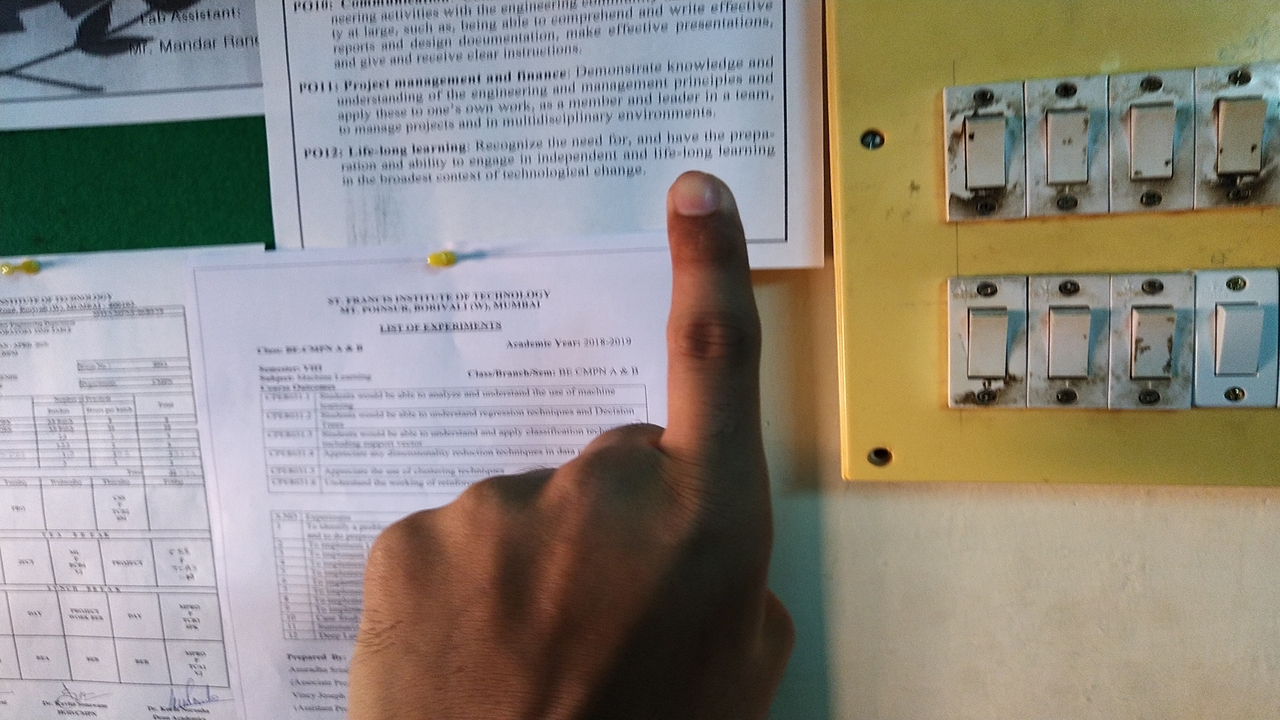fingertip: (662, 170, 740, 232)
